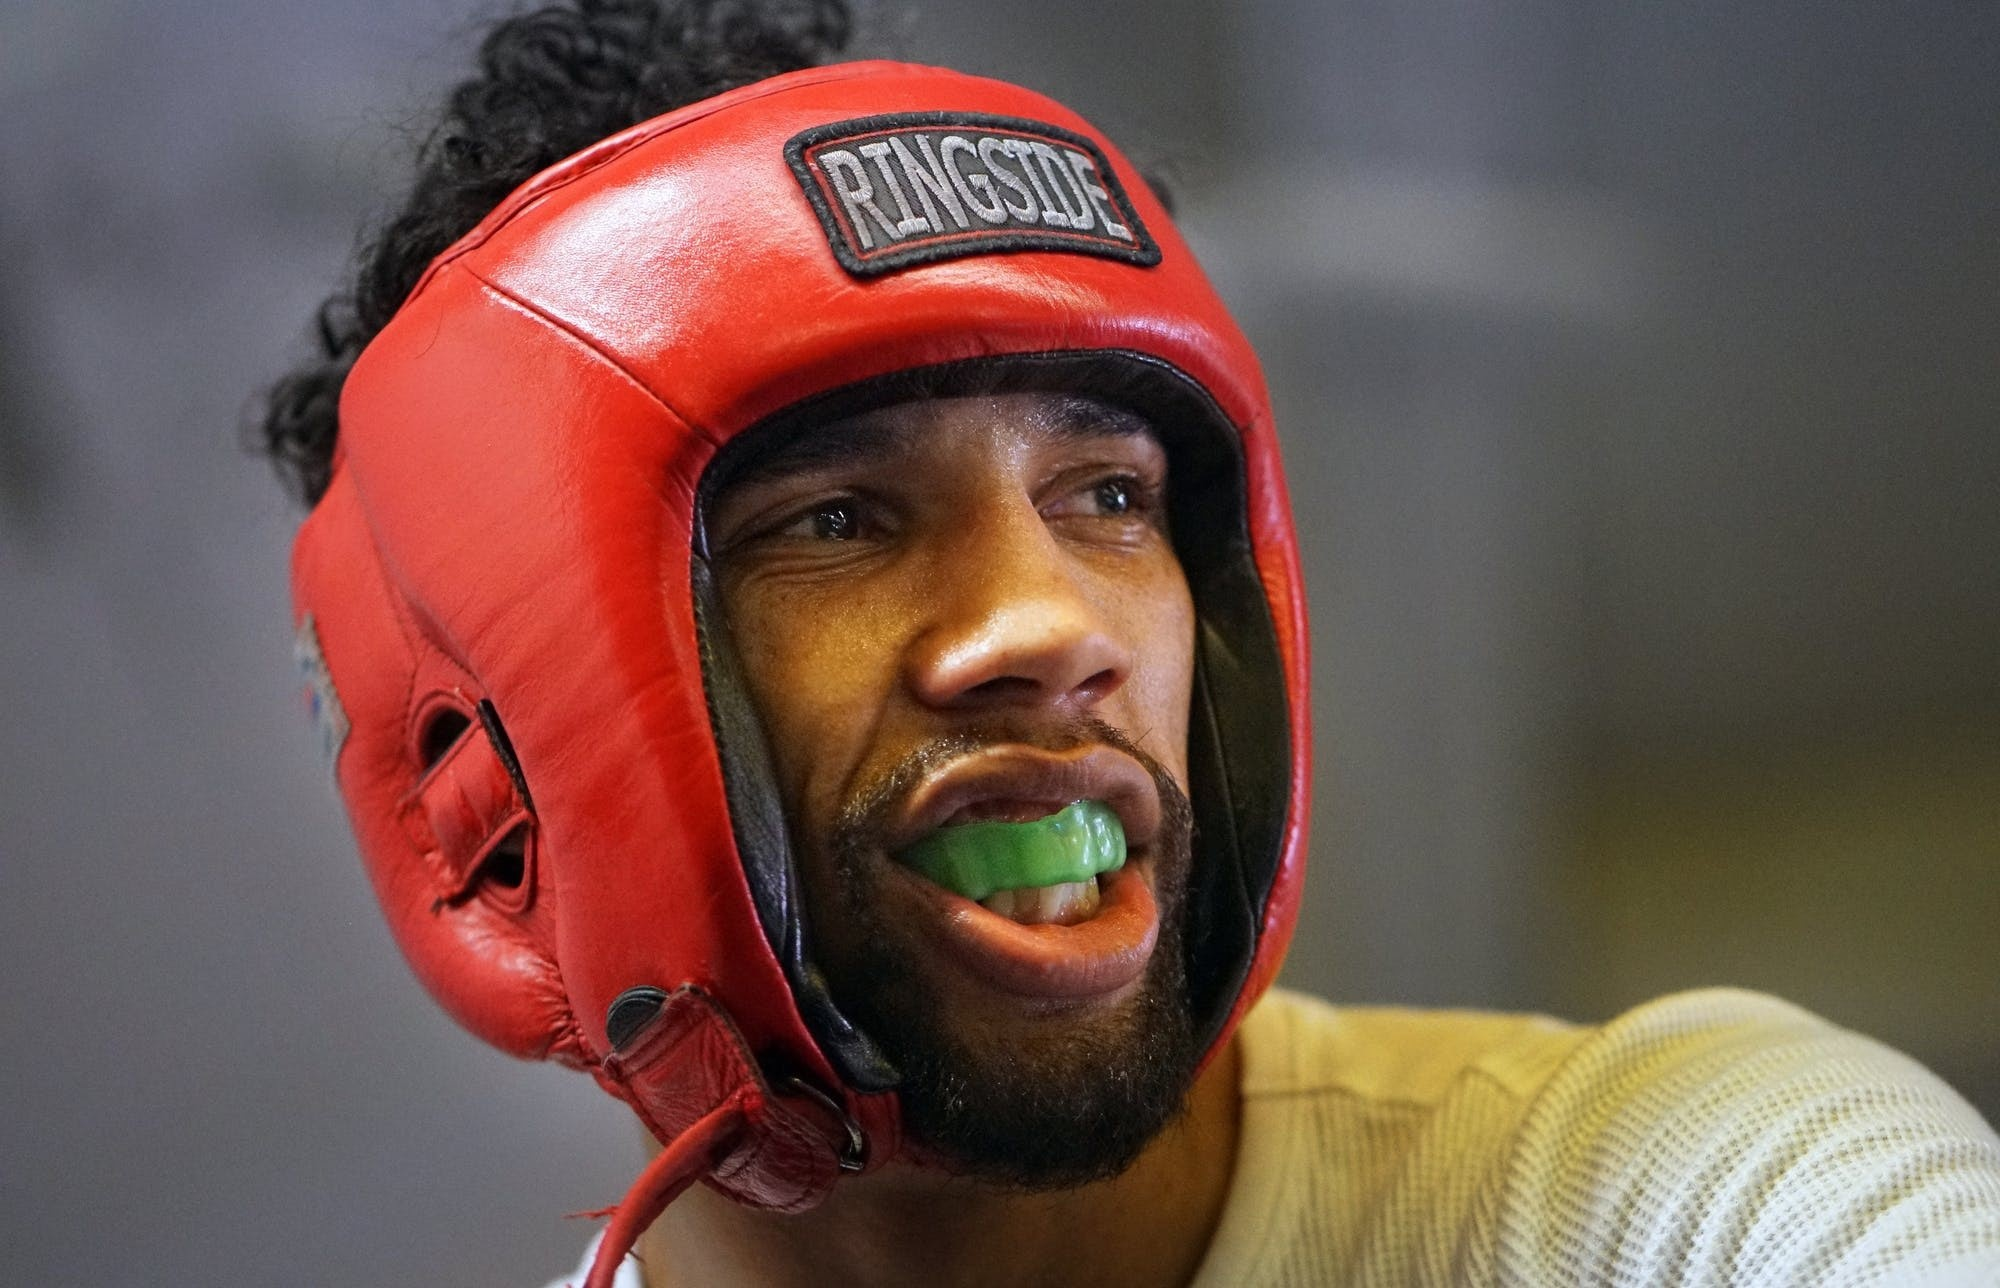face_no_mask: (649, 333, 1319, 1179)
